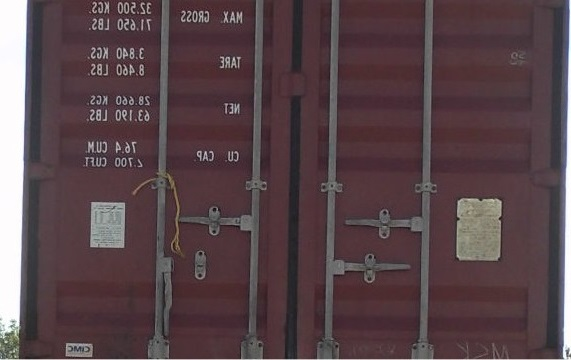container_door: (21, 3, 553, 354)
